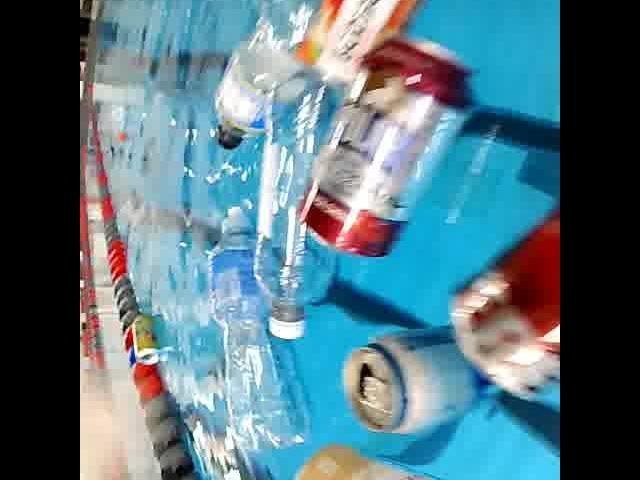Bottle: (202, 198, 318, 450), (254, 71, 346, 347), (209, 0, 337, 153), (298, 0, 476, 92), (286, 441, 559, 480)
Can: (294, 26, 488, 264), (444, 188, 560, 412), (338, 312, 518, 444), (131, 306, 163, 370)
